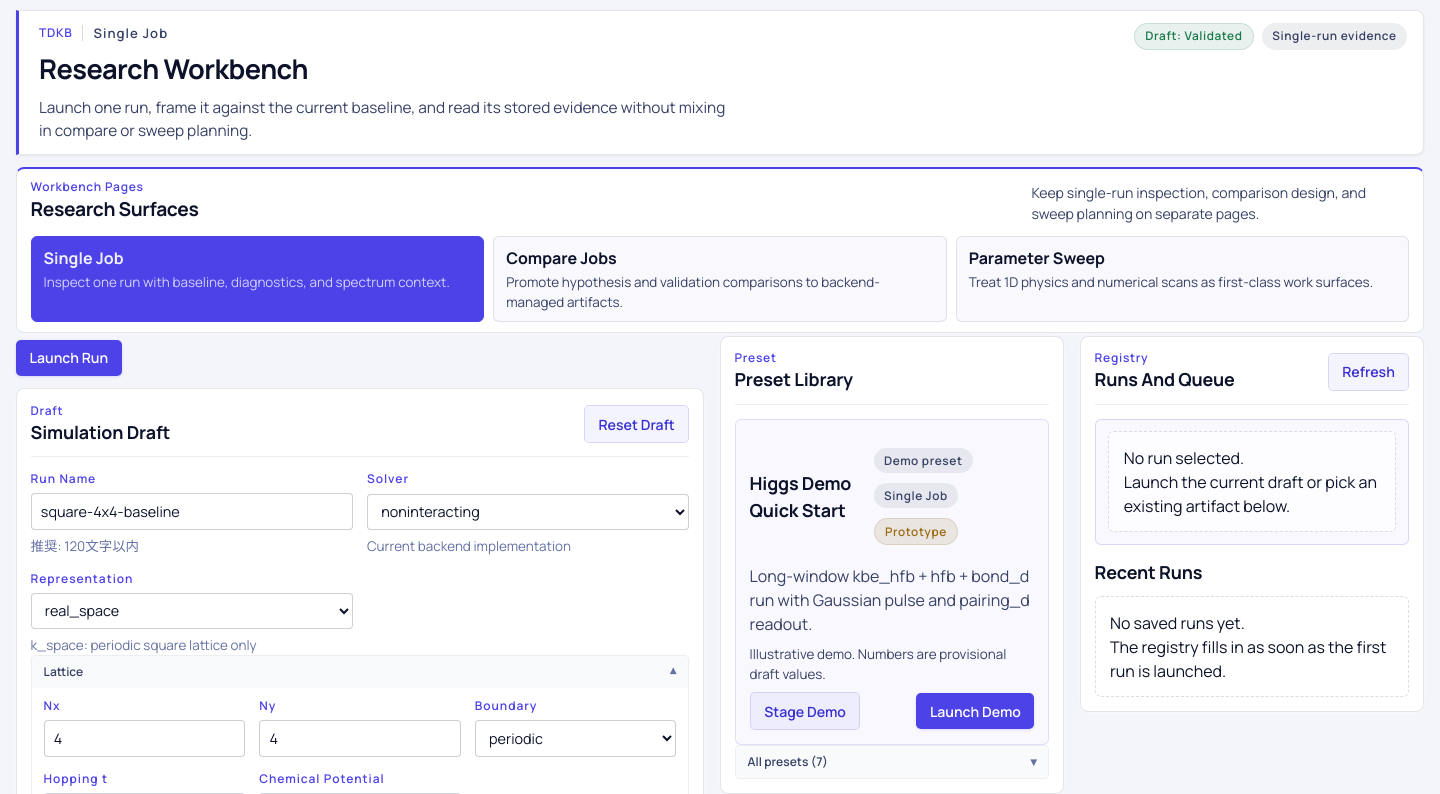
Test: App › stages and launches the Higgs demo from quick start
Expected: the heading "Higgs Demo Quick Start" is shown, [750,470,862,524]
Click the button "Stage Demo" at point(805, 711), box [750,692,860,730]
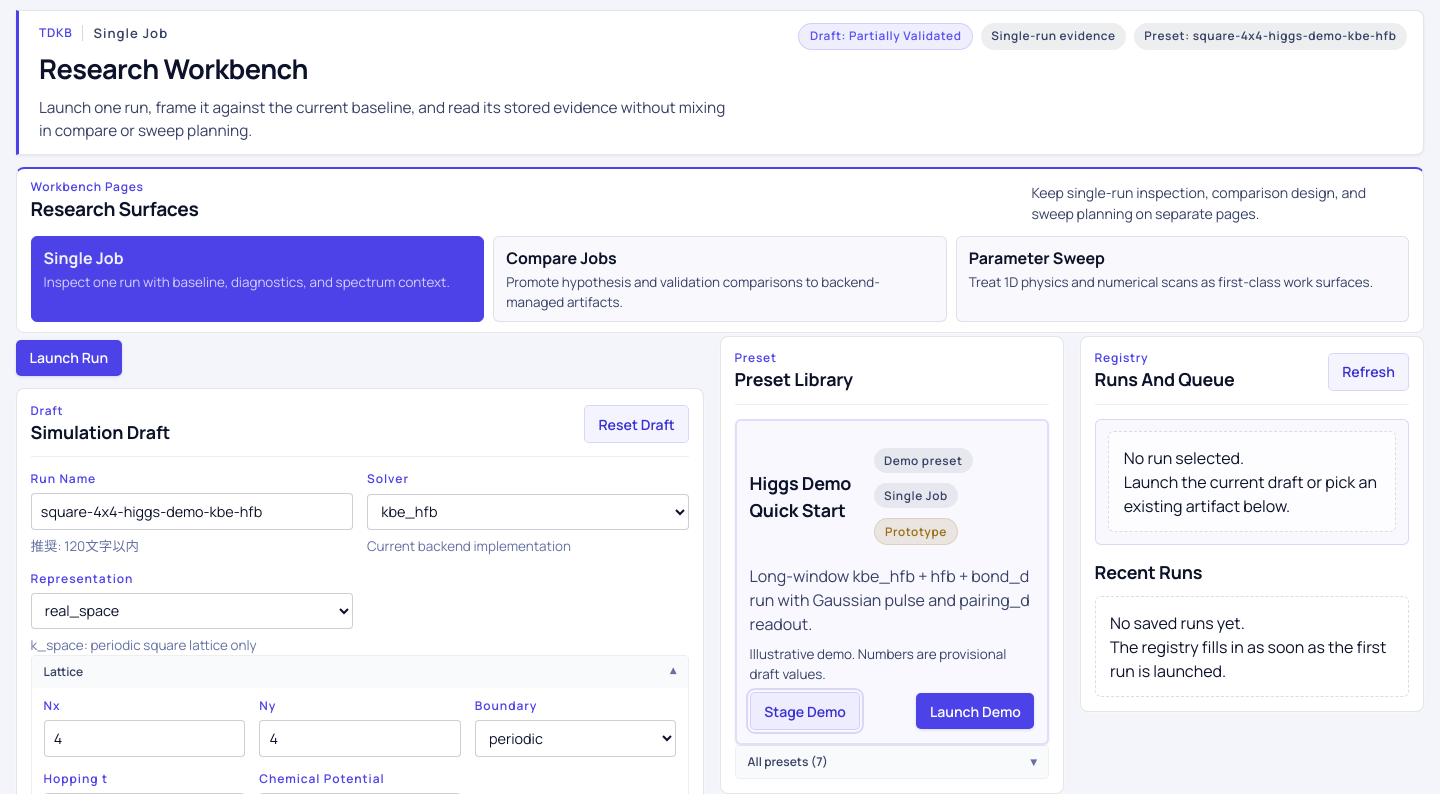
Expected: the field labelled "Run Name" holds "square-4x4-higgs-demo-kbe-hfb", [31,493,353,530]
Expected: the text "Preset: square-4x4-higgs-demo-kbe-hfb" is shown, [1134,23,1407,50]
Click the button "Launch Demo" at point(975, 711), box [916,693,1034,729]
(page scrolled)
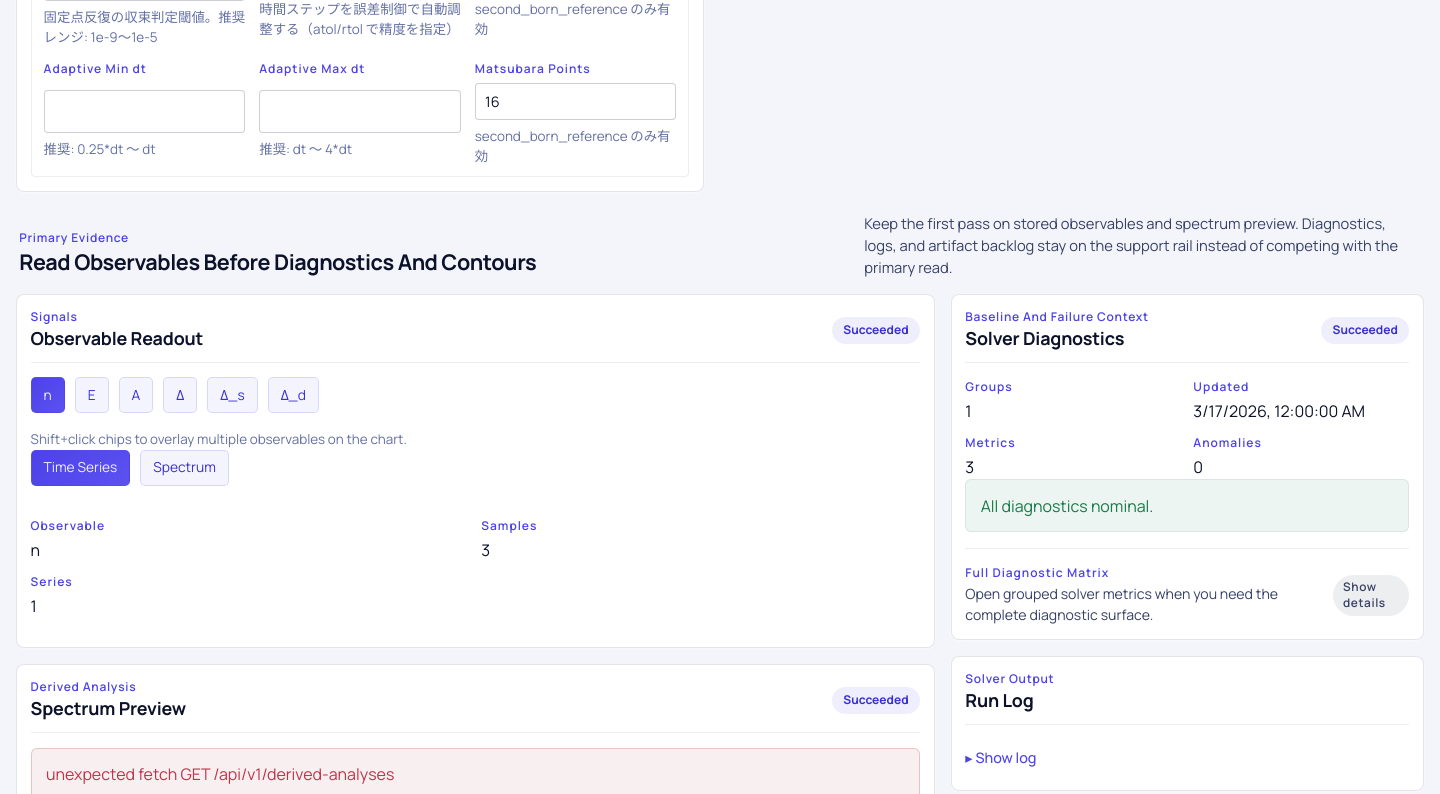
Expected: the button "Δ_d" is shown, [268,377,319,414]
